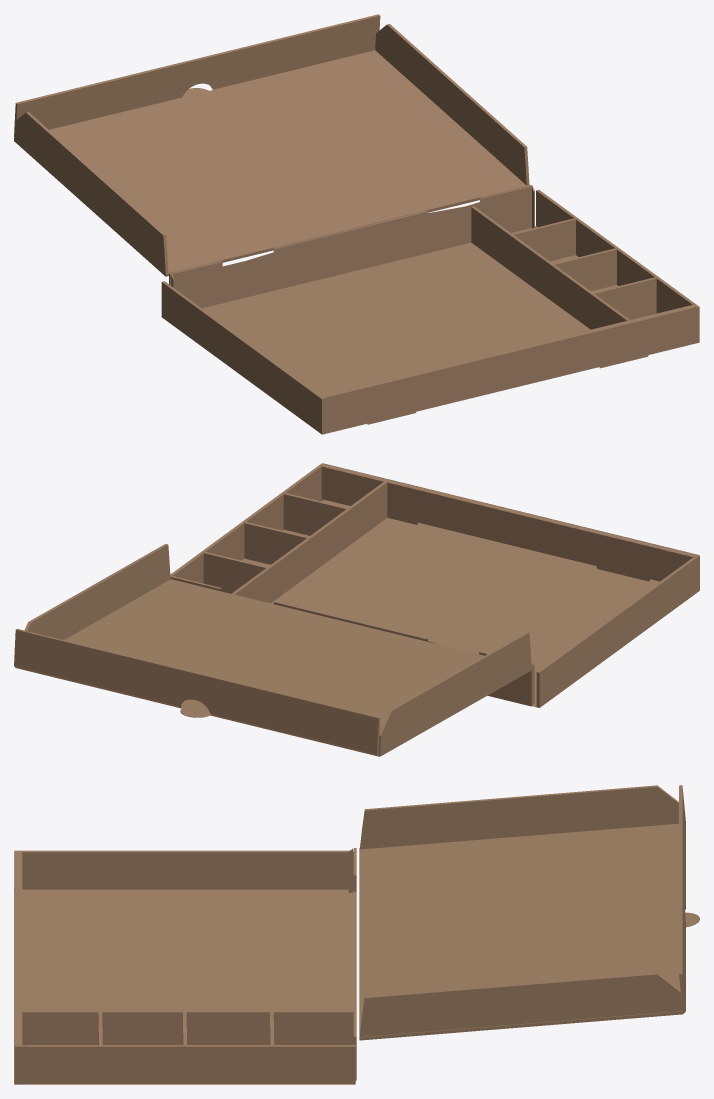
File: Pizza_Box_02.fbx
3 views of the same model, one above another, from view 1: azimuth 30°, elevation 25°; view 2: azimuth 150°, elevation 25°; view 3: azimuth 270°, elevation 25° (orthographic). The views are drawn at different scales.
Visible parts, largest first — view 1: Box_top, Box; view 2: Box, Box_top; view 3: Box, Box_top.
Boxes of the visible parts, box(x1,y1,x2,y2) form: Box_top: box(14, 14, 529, 276); Box: box(161, 185, 699, 434); Box: box(170, 463, 699, 707); Box_top: box(14, 544, 531, 756); Box: box(14, 848, 356, 1084); Box_top: box(359, 785, 699, 1040).
Size of the model in its own units: 40.89 by 10.89 by 60.37.
